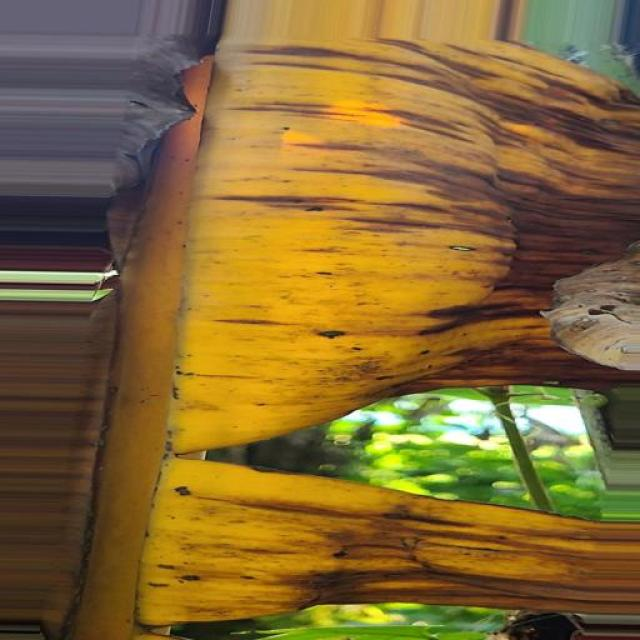Cordana: (149, 29, 623, 640)
